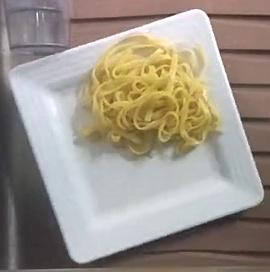pasta: (82, 33, 218, 153)
